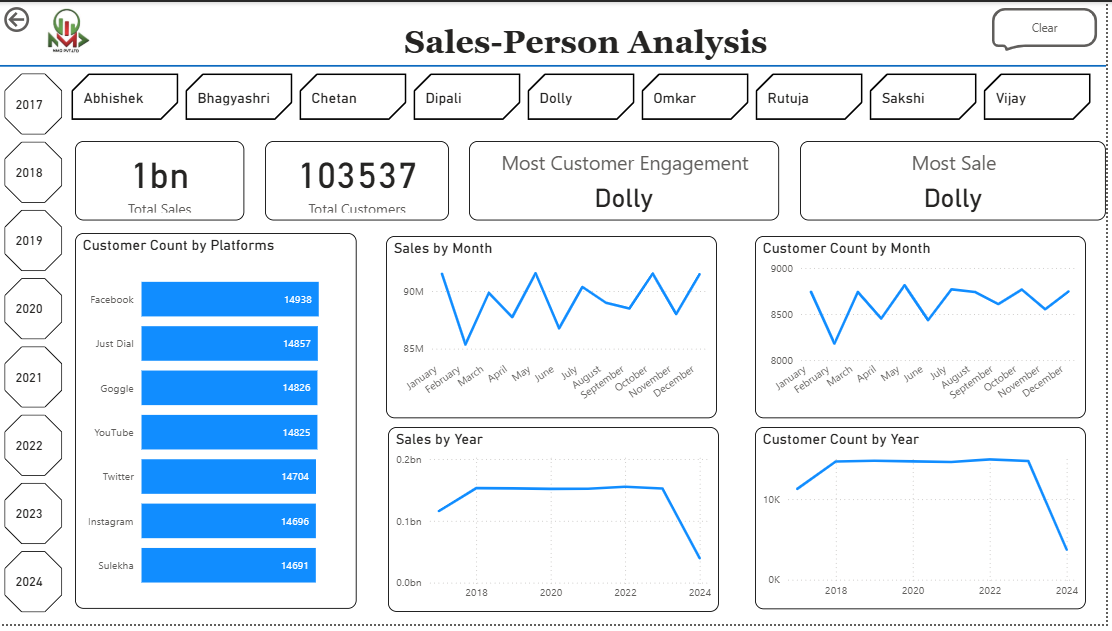

The dashboard page shown, as its layout file describes it:
{"tool":"powerbi","page":{"name":"Sales-Person Analysis","canvas":[1280,720],"ordinal":2},"visuals":[{"type":"textbox","box":[462.5,19.4,451.1,54.7],"z":0},{"type":"shape","box":[0,62.7,1280.5,22.8],"z":1000},{"type":"image","box":[30.4,0,92.4,66.7],"z":2000},{"type":"actionButton","box":[0,0,38.6,39.8],"z":3000},{"type":"actionButton","box":[1147.8,7,121.7,50.3],"z":4000},{"type":"advancedSlicerVisual","fields":{"Values":["Dim_Calender.Year"]},"box":[0,77.5,77.5,641.4],"z":5000},{"type":"advancedSlicerVisual","fields":{"Values":["Dim_Sales_Person.Sales-Person Name"]},"box":[77.5,77.5,1192.8,64.9],"z":6000},{"type":"card","fields":{"Values":["Measures (2).Total Sales"]},"box":[86.6,160.6,195.9,92.3],"z":7000},{"type":"card","fields":{"Values":["Measures (2).Total Customers"]},"box":[306.5,160.6,213,92.3],"z":8000},{"type":"card","fields":{"Values":["Dim_Sales_Person.Sales-Person Name"]},"box":[543.4,160.6,358.9,92.3],"z":9000},{"type":"card","fields":{"Values":["Dim_Sales_Person.Sales-Person Name"]},"box":[925.7,160.6,354.3,92.3],"z":10000},{"type":"clusteredBarChart","title":" Customer Count by Platforms","fields":{"Category":["Dim_Platform.Platforms"],"Y":["Measures (2).Total Customers"]},"box":[86.6,267.7,325.8,435.2],"z":11000},{"type":"lineChart","title":"Sales by Month ","fields":{"Category":["Dim_Calender.Month Name"],"Y":["Measures (2).Total Sales"]},"box":[447.2,271.1,382.8,210.8],"z":12000},{"type":"lineChart","title":"Sales by Year","fields":{"Category":["Dim_Calender.Year"],"Y":["Measures (2).Total Sales"]},"box":[448.9,492.2,382.8,214.2],"z":13000},{"type":"lineChart","title":" Customer Count by Month ","fields":{"Category":["Dim_Calender.Month Name"],"Y":["Measures (2).Total Customers"]},"box":[873.8,271.1,382.8,210.8],"z":14000},{"type":"lineChart","title":"Customer Count by Year","fields":{"Category":["Dim_Calender.Year"],"Y":["Measures (2).Total Customers"]},"box":[873.8,492.2,382.8,210.8],"z":15000}]}

Visuals, with their boxes in screenshot pixels (x1, y1, x2, y2), scaled from the page's 1280x720 canvas onto the 1112x631 screenshot:
textbox: <region>402, 17, 794, 65</region>
shape: <region>0, 55, 1111, 75</region>
image: <region>26, 0, 107, 58</region>
actionButton: <region>0, 0, 34, 35</region>
actionButton: <region>997, 6, 1103, 50</region>
advancedSlicerVisual - Dim_Calender.Year: <region>0, 68, 67, 630</region>
advancedSlicerVisual - Dim_Sales_Person.Sales-Person Name: <region>67, 68, 1104, 125</region>
card - Measures (2).Total Sales: <region>75, 141, 245, 222</region>
card - Measures (2).Total Customers: <region>266, 141, 451, 222</region>
card - Dim_Sales_Person.Sales-Person Name: <region>472, 141, 784, 222</region>
card - Dim_Sales_Person.Sales-Person Name: <region>804, 141, 1111, 222</region>
" Customer Count by Platforms" clusteredBarChart: <region>75, 235, 358, 616</region>
"Sales by Month " lineChart: <region>389, 238, 721, 422</region>
"Sales by Year" lineChart: <region>390, 431, 723, 619</region>
" Customer Count by Month " lineChart: <region>759, 238, 1092, 422</region>
"Customer Count by Year" lineChart: <region>759, 431, 1092, 616</region>
